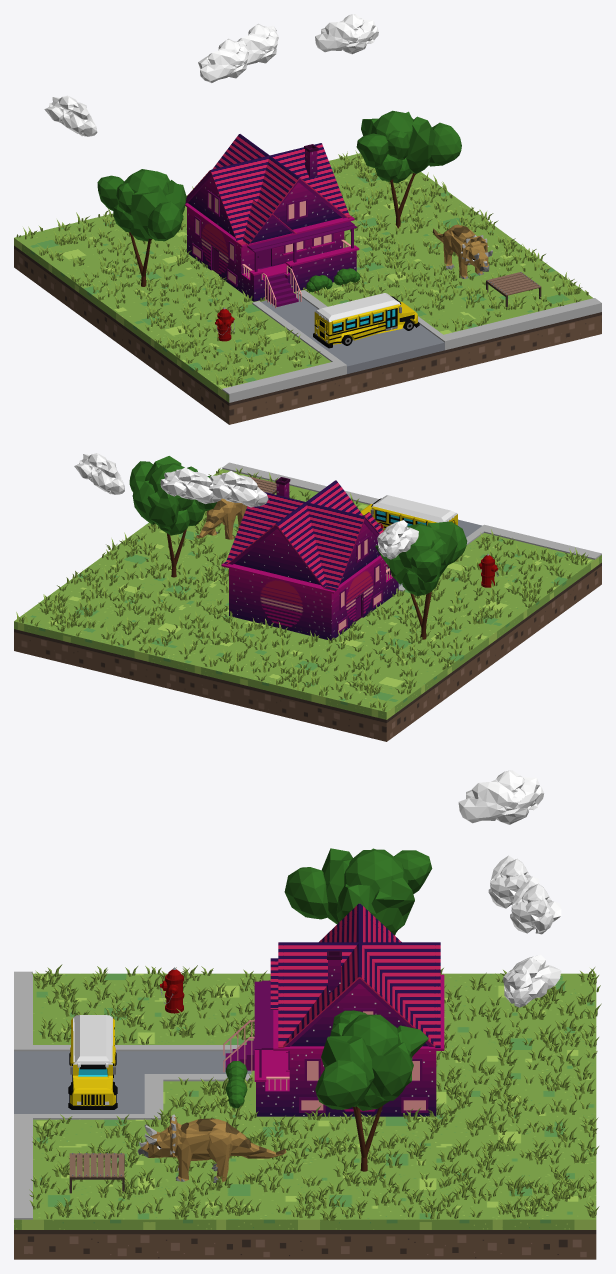
The picture shows the model from 3 angles, top to bottom: view 1: azimuth 30°, elevation 25°; view 2: azimuth 150°, elevation 25°; view 3: azimuth 270°, elevation 25°; orthographic projection. The views are drawn at different scales.
Visible parts, largest first — view 1: Cube.006, Cube.156, Circle.012_Grass_0.192, Cube.007, tree, tree.001, VEHICLES_SCHOOL_BUS, ANIMAL_Triceratops, Cube.009; view 2: Cube.006, Cube.156, Circle.012_Grass_0.192, Cube.007, tree.001, tree, VEHICLES_SCHOOL_BUS, ANIMAL_Triceratops, OBJRANDOM_FIRE_HYDRANT; view 3: Cube.006, Circle.012_Grass_0.192, Cube.156, tree, Cube.007, tree.001, ANIMAL_Triceratops, VEHICLES_SCHOOL_BUS, Cube.009, OBJRANDOM_FIRE_HYDRANT.
Boxes of the visible parts, <box> form: Cube.006: <box>14,153,601,424</box>; Cube.156: <box>185,134,359,308</box>; Circle.012_Grass_0.192: <box>16,150,588,386</box>; Cube.007: <box>44,14,378,136</box>; tree: <box>356,110,461,228</box>; tree.001: <box>97,169,186,286</box>; VEHICLES_SCHOOL_BUS: <box>313,293,419,348</box>; ANIMAL_Triceratops: <box>432,224,492,278</box>; Cube.009: <box>486,272,541,306</box>; Cube.006: <box>14,462,601,741</box>; Cube.156: <box>221,477,398,640</box>; Circle.012_Grass_0.192: <box>16,468,588,711</box>; Cube.007: <box>74,453,418,559</box>; tree.001: <box>375,521,467,639</box>; tree: <box>129,456,216,577</box>; VEHICLES_SCHOOL_BUS: <box>360,495,457,530</box>; ANIMAL_Triceratops: <box>196,498,246,539</box>; OBJRANDOM_FIRE_HYDRANT: <box>478,554,498,587</box>; Cube.006: <box>14,971,596,1259</box>; Circle.012_Grass_0.192: <box>29,964,601,1220</box>; Cube.156: <box>223,903,444,1116</box>; tree: <box>315,1010,428,1171</box>; Cube.007: <box>458,770,561,1007</box>; tree.001: <box>284,848,432,935</box>; ANIMAL_Triceratops: <box>137,1114,286,1182</box>; VEHICLES_SCHOOL_BUS: <box>68,1015,117,1109</box>; Cube.009: <box>69,1153,124,1193</box>; OBJRANDOM_FIRE_HYDRANT: <box>160,967,184,1013</box>.
Size of the model in its own units: 4071 by 2179 by 4040.
Materials: 37 (5 with a texture image).
